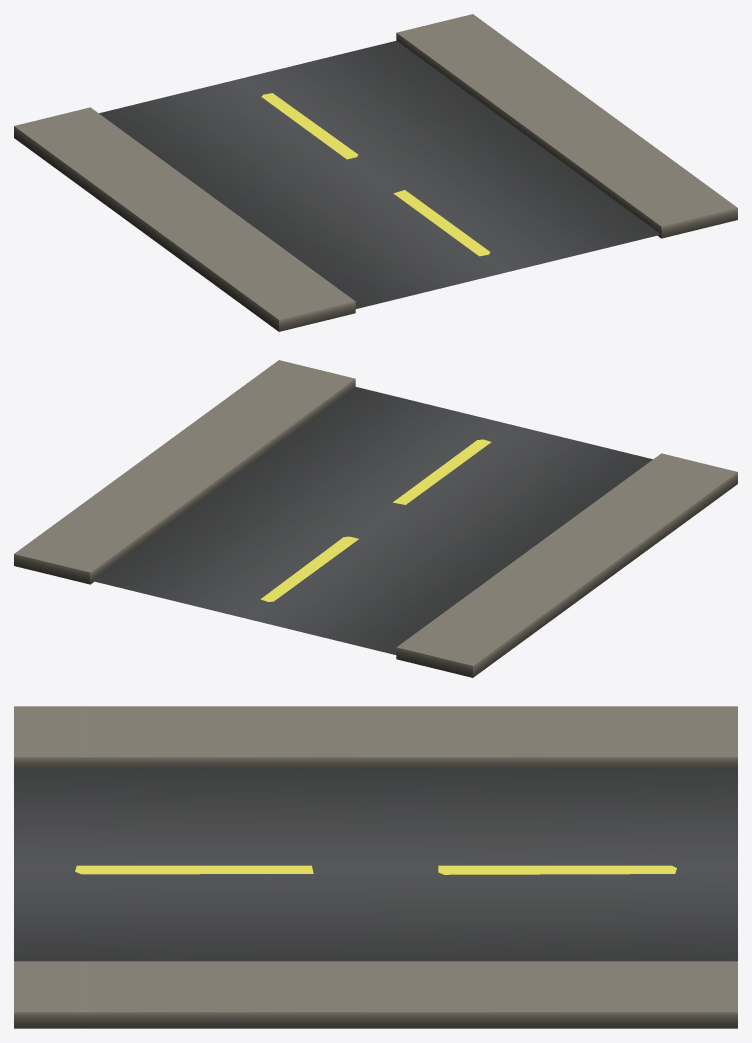
File: Road.fbx
3 views of the same model, one above another, from view 1: azimuth 30°, elevation 25°; view 2: azimuth 150°, elevation 25°; view 3: azimuth 270°, elevation 25° (orthographic). The views are drawn at different scales.
Parts seen in each view (by area): view 1: Road; view 2: Road; view 3: Road.
Boxes of the visible parts, box(x1,y1,x2,y2) form: Road: box(14, 14, 737, 331); Road: box(14, 360, 737, 677); Road: box(14, 706, 737, 1028).
Size of the model in its own units: 23.01 by 0.5751 by 23.01.
1 material, 1 textured.
